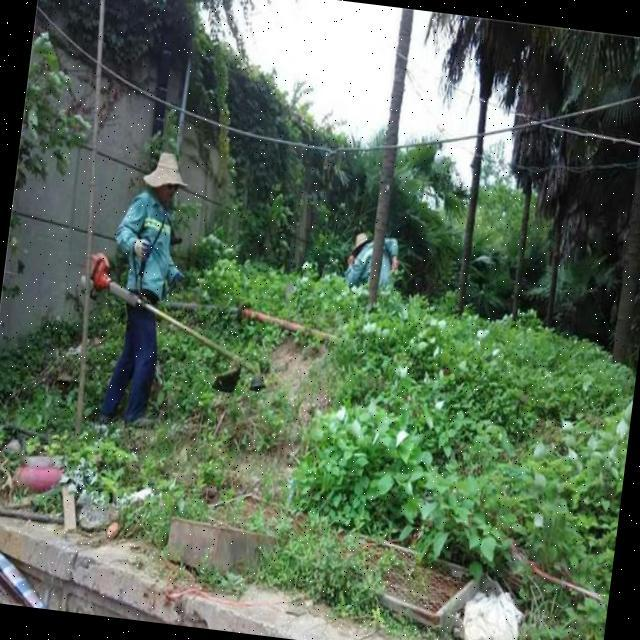fallen_object: (164, 296, 334, 342)
